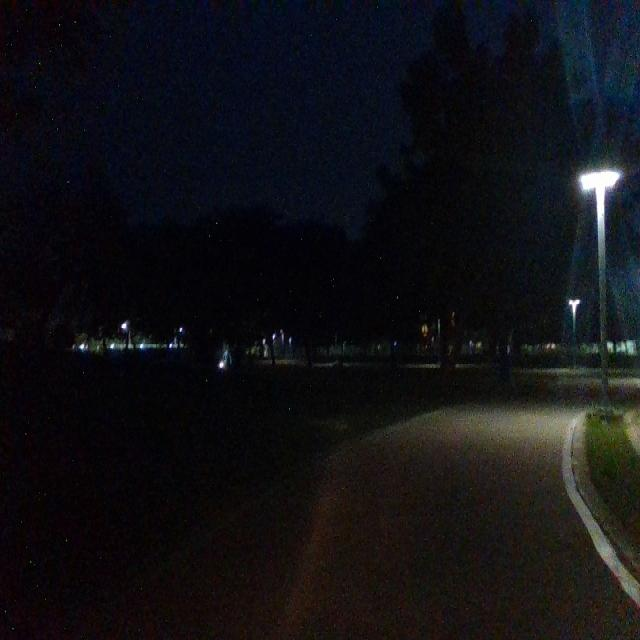lane: (130, 400, 634, 628)
